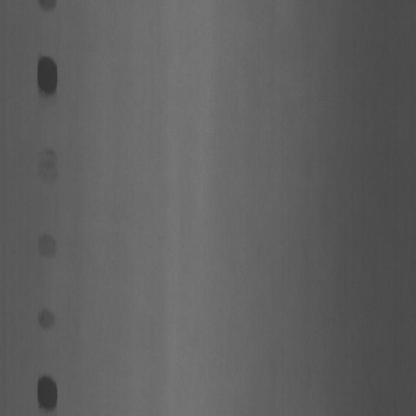oil_spot: (35, 358, 64, 409), (38, 141, 61, 187), (37, 53, 61, 96), (38, 228, 58, 264), (37, 301, 55, 329), (40, 0, 62, 12)
